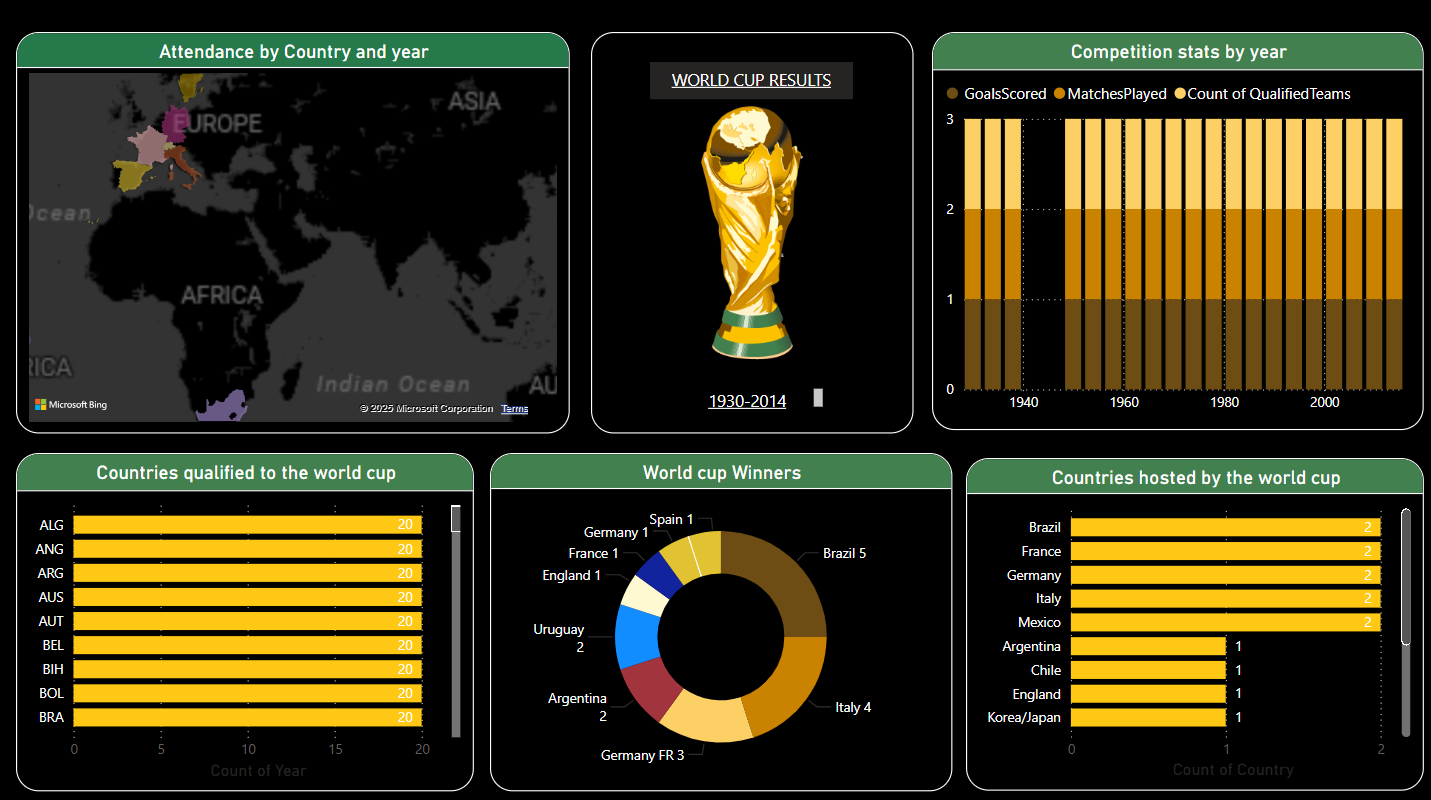

The page's visual inventory and layout, read from the dashboard file:
{"tool":"powerbi","page":{"name":"Page 1","canvas":[1280,720],"ordinal":0},"visuals":[{"type":"image","box":[523.6,34.4,286,356.4],"z":0},{"type":"textbox","box":[576.7,61,179.7,32.8],"z":1000},{"type":"textbox","box":[598.6,345.4,136,28.1],"z":2000},{"type":"columnChart","title":" Competition stats by year ","fields":{"Category":["WorldCups.Year"],"Y":["CountNonNull(WorldCups.GoalsScored)","CountNonNull(WorldCups.MatchesPlayed)","CountNonNull(WorldCups.QualifiedTeams)"]},"box":[826.8,34.4,436.1,353.2],"z":3000},{"type":"donutChart","title":"World cup Winners","fields":{"Category":["WorldCups.Winner"],"Y":["CountNonNull(WorldCups.Winner)"]},"box":[434.5,407.9,409.5,300.1],"z":4000},{"type":"barChart","title":"Countries qualified to the world cup","fields":{"Y":["CountNonNull(WorldCups.Year)"],"Category":["WorldCupPlayers.Team Initials"]},"box":[14.1,407.9,406.4,300.1],"z":5000},{"type":"clusteredBarChart","title":"Countries hosted by the world cup","fields":{"Category":["WorldCups.Country"],"Y":["CountNonNull(WorldCups.Country)"]},"box":[856.5,412.6,406.4,295.4],"z":5001},{"type":"filledMap","title":"Attendance by Country and year","fields":{"Category":["WorldCups.Country"]},"box":[14.1,34.4,490.8,356.4],"z":5002}]}

Visuals, with their boxes in screenshot pixels (x1, y1, x2, y2), scaled from the page's 1280x720 canvas onto the 1431x800 screenshot:
image: left=585, top=38, right=905, bottom=434
textbox: left=645, top=68, right=846, bottom=104
textbox: left=669, top=384, right=821, bottom=415
" Competition stats by year " columnChart: left=924, top=38, right=1412, bottom=431
"World cup Winners" donutChart: left=486, top=453, right=944, bottom=787
"Countries qualified to the world cup" barChart: left=16, top=453, right=470, bottom=787
"Countries hosted by the world cup" clusteredBarChart: left=958, top=458, right=1412, bottom=787
"Attendance by Country and year" filledMap: left=16, top=38, right=564, bottom=434
